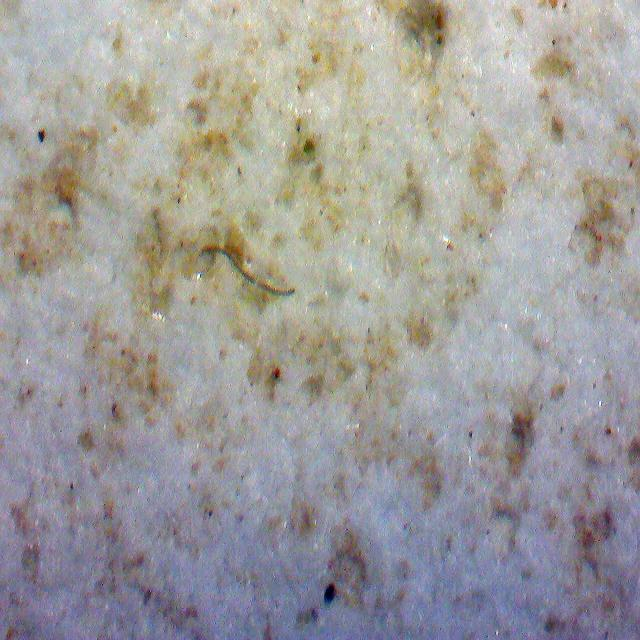microplastic: (198, 247, 301, 296)
